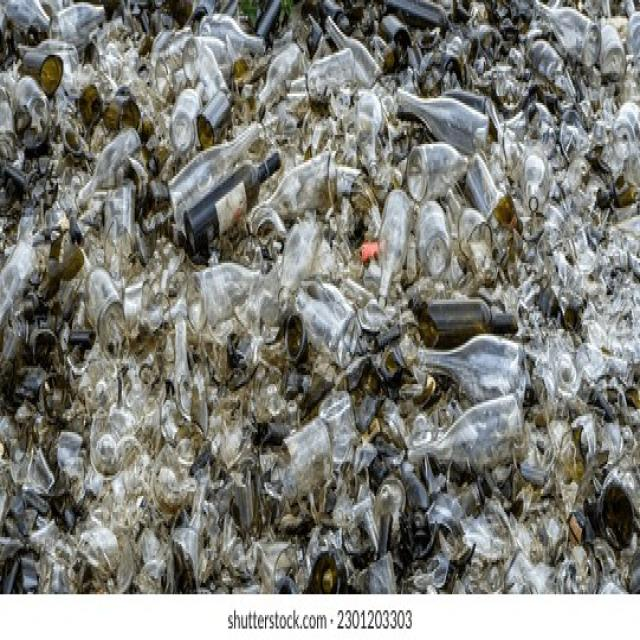glass: (63, 59, 551, 500)
